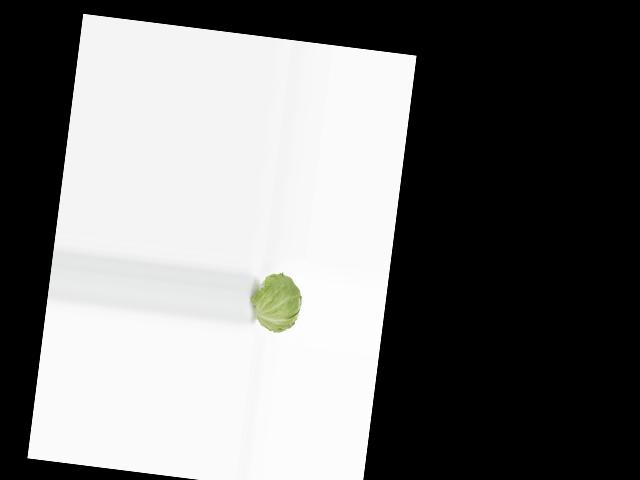lettuce: (253, 268, 305, 338)
